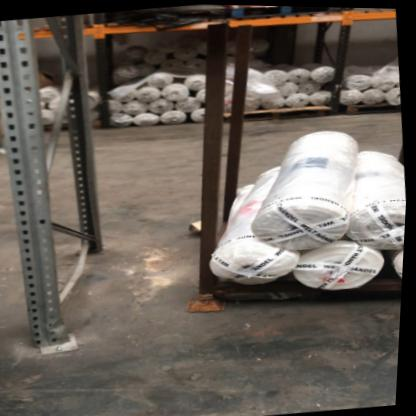vertical_damage: (26, 309, 88, 359)
